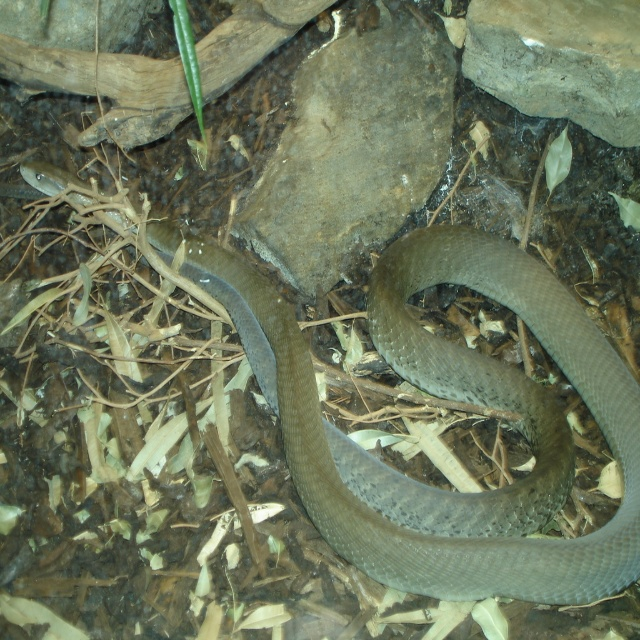Snake: (20, 159, 640, 605)
